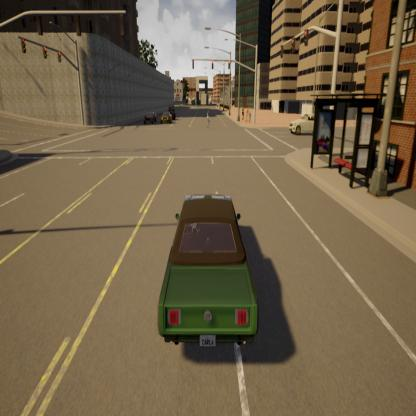Cars: (145, 176, 274, 374), (286, 101, 318, 154), (144, 102, 160, 135), (160, 104, 175, 134), (167, 92, 176, 119)
Pedestrian: (204, 102, 213, 142), (241, 99, 246, 132), (248, 103, 254, 129), (244, 100, 249, 130)
